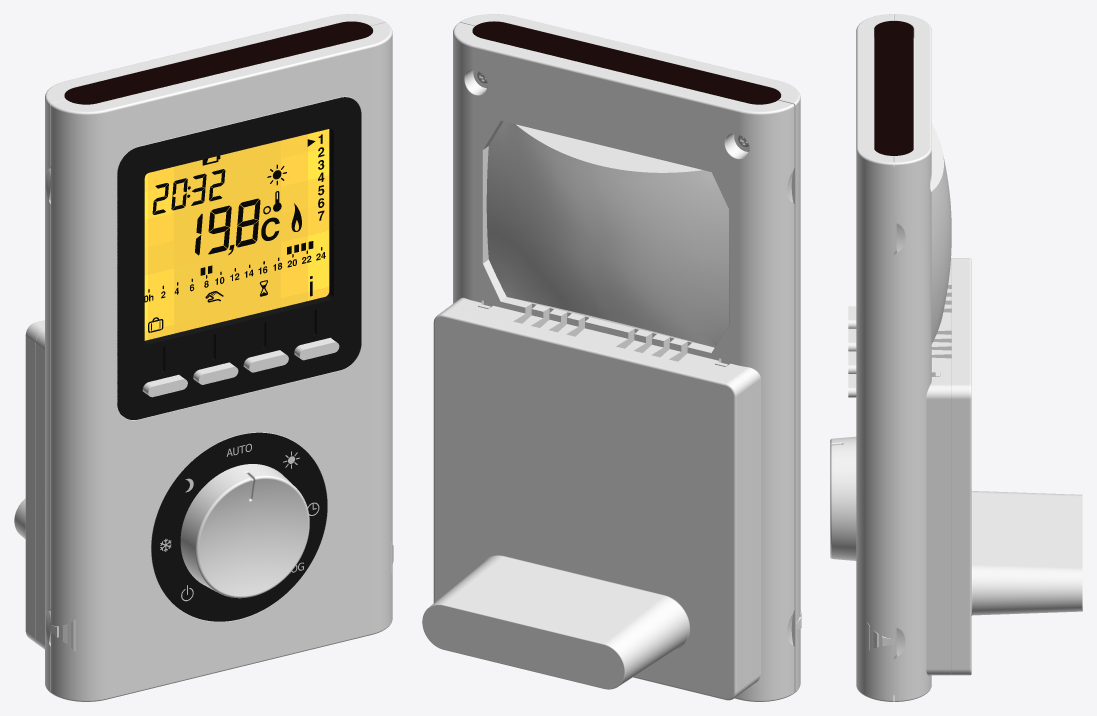
3 views of the same model, side by side, from view 1: azimuth 30°, elevation 25°; view 2: azimuth 150°, elevation 25°; view 3: azimuth 270°, elevation 25° (orthographic). The views are drawn at different scales.
Visible parts, largest first — view 1: TTIR_obudowa, TTIR_ciemny_plastik, TTIR_lcd_tlo, TTIR_obudowa_emi, TTIR_lcd_symbols, TTIR_stopa, TTIR_przyciski; view 2: TTIR_obudowa, TTIR_stopa, TTIR_obudowa_emi; view 3: TTIR_obudowa, TTIR_stopa, TTIR_obudowa_emi, TTIR_przyciski.
Boxes of the visible parts, x1,y1,x2,y2 form: TTIR_obudowa: [36, 14, 393, 701]; TTIR_ciemny_plastik: [117, 97, 361, 621]; TTIR_lcd_tlo: [144, 129, 329, 340]; TTIR_obudowa_emi: [64, 21, 372, 461]; TTIR_lcd_symbols: [144, 134, 325, 332]; TTIR_stopa: [14, 320, 44, 644]; TTIR_przyciski: [142, 337, 339, 397]; TTIR_obudowa: [448, 14, 801, 701]; TTIR_stopa: [422, 304, 746, 700]; TTIR_obudowa_emi: [472, 21, 780, 104]; TTIR_obudowa: [830, 14, 951, 701]; TTIR_stopa: [935, 258, 1082, 675]; TTIR_obudowa_emi: [874, 21, 913, 155]; TTIR_przyciski: [848, 306, 856, 397].
Size of the model in its own units: 8 by 13.4 by 5.68.
Materials: 10 (10 with a texture image).
